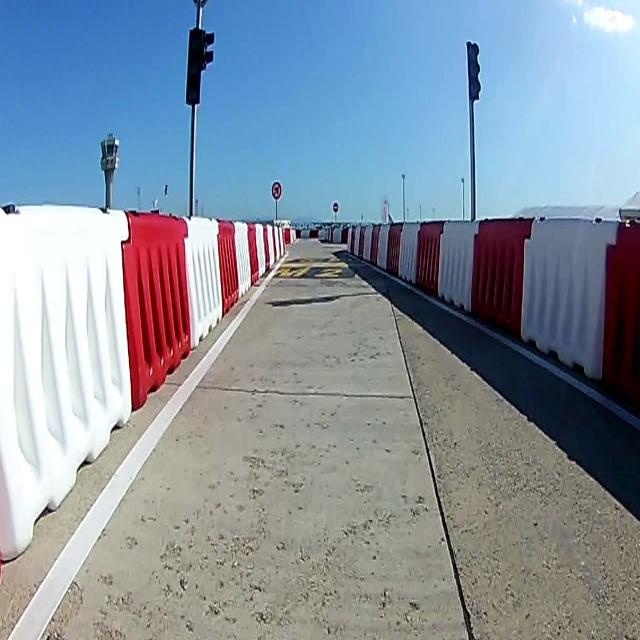soladonulmez: (272, 181, 282, 199)
